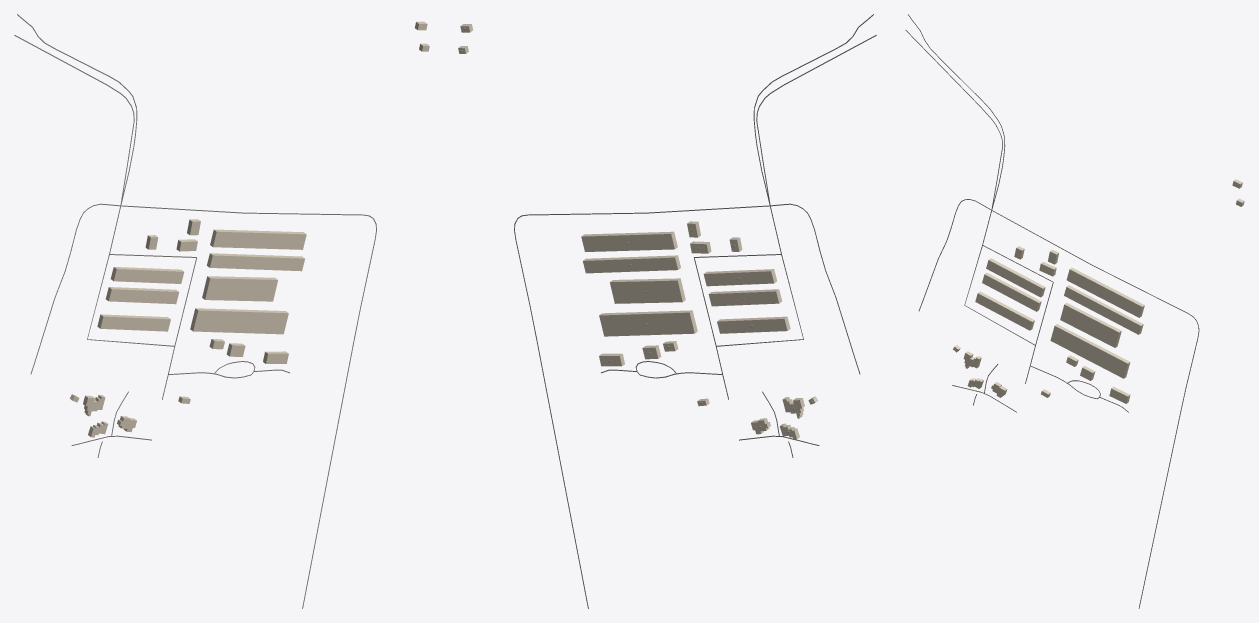
The model's file is historic-palestine-15_33_3570_3278.glb.
3 renders of one model, left to right at view 1: azimuth 30°, elevation 25°; view 2: azimuth 150°, elevation 25°; view 3: azimuth 330°, elevation 25°, orthographic. The views are drawn at different scales.
Parts seen in each view (by area): view 1: Building_, Building_.002, Building_.004, Building_.003, Building_.007, Building_.005, Building_.006, Road .002; view 2: Building_, Building_.002, Building_.004, Building_.003, Building_.006, Building_.007, Building_.005, Road .002; view 3: Building_, Building_.004, Building_.002, Building_.003, Building_.006, Building_.005, Building_.007, Road .002.
Boxes of the visible parts, box(x1,y1,x2,y2) form: Building_: box(190, 308, 288, 334); Building_.002: box(202, 276, 277, 301); Building_.004: box(210, 229, 306, 249); Building_.003: box(207, 253, 304, 271); Building_.007: box(97, 314, 170, 331); Building_.005: box(110, 267, 184, 283); Building_.006: box(105, 287, 179, 304); Road .002: box(121, 205, 376, 608); Building_: box(599, 310, 697, 336); Building_.002: box(609, 278, 685, 303); Building_.004: box(581, 231, 677, 251); Building_.003: box(583, 255, 680, 273); Building_.006: box(708, 289, 782, 306); Building_.007: box(717, 316, 790, 333); Building_.005: box(703, 269, 776, 286); Road .002: box(514, 205, 769, 608); Building_: box(1050, 324, 1130, 378); Building_.004: box(1066, 267, 1144, 317); Building_.002: box(1060, 303, 1121, 347); Building_.003: box(1064, 285, 1143, 334); Building_.006: box(982, 272, 1041, 311); Building_.005: box(986, 258, 1045, 297); Building_.007: box(975, 291, 1034, 330); Road .002: box(991, 210, 1199, 608).
Size of the model in its own units: 592 by 904 by 8.7.
